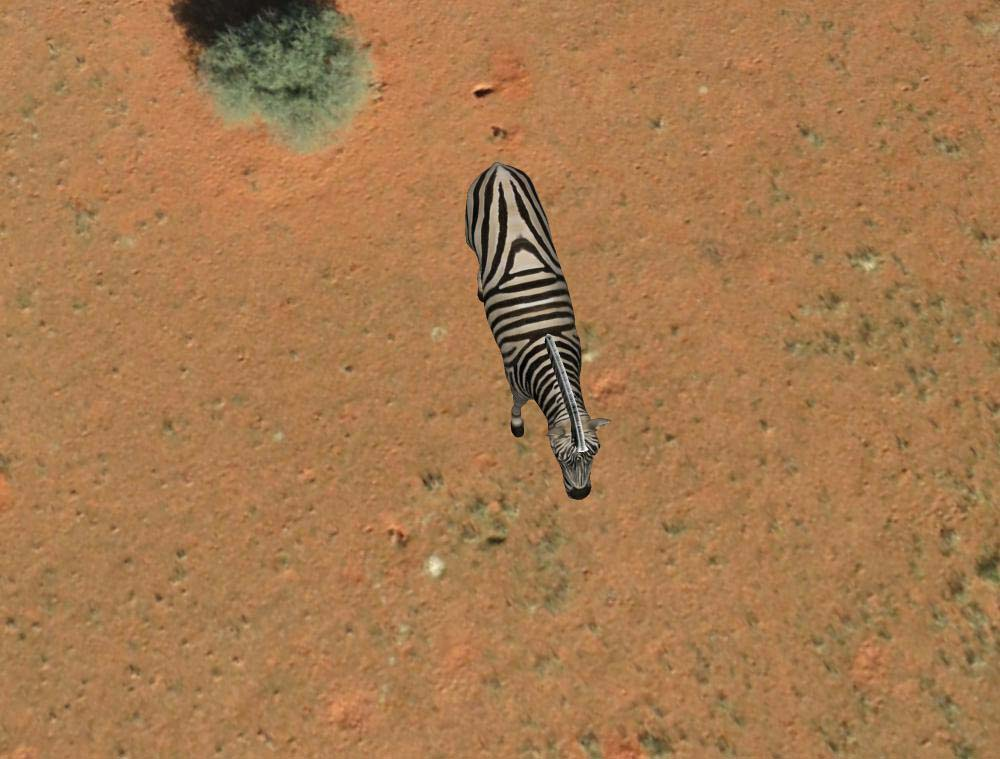zebra: (458, 162, 607, 507)
